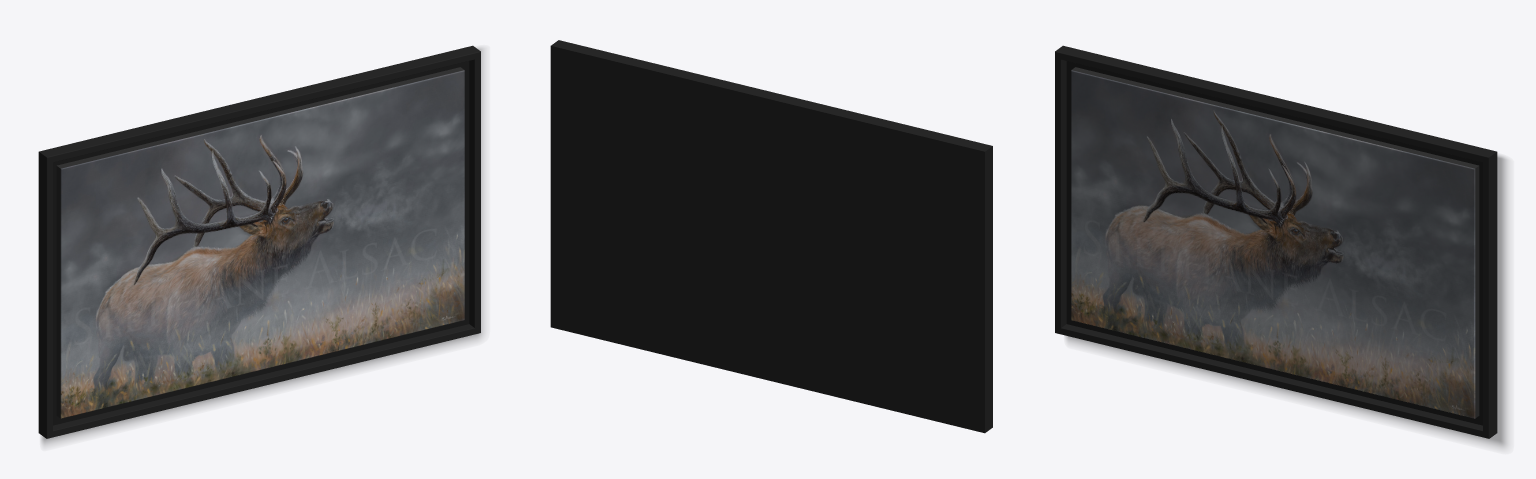
The model's file is tableau-wapiti-grand-4c0cd0a7.glb.
3 renders of one model, left to right at view 1: azimuth 30°, elevation 25°; view 2: azimuth 150°, elevation 25°; view 3: azimuth 330°, elevation 25°, orthographic.
Visible parts, largest first — view 1: Painting; view 2: Painting; view 3: Painting.
Part boxes in pixels (left/top/right/bottom): Painting: left=38, top=45, right=482, bottom=444; Painting: left=550, top=40, right=992, bottom=433; Painting: left=1055, top=45, right=1506, bottom=447.
Bounding box in the file's own units: 1.38 × 0.906 × 0.04.
Materials: 5 (3 with a texture image).
